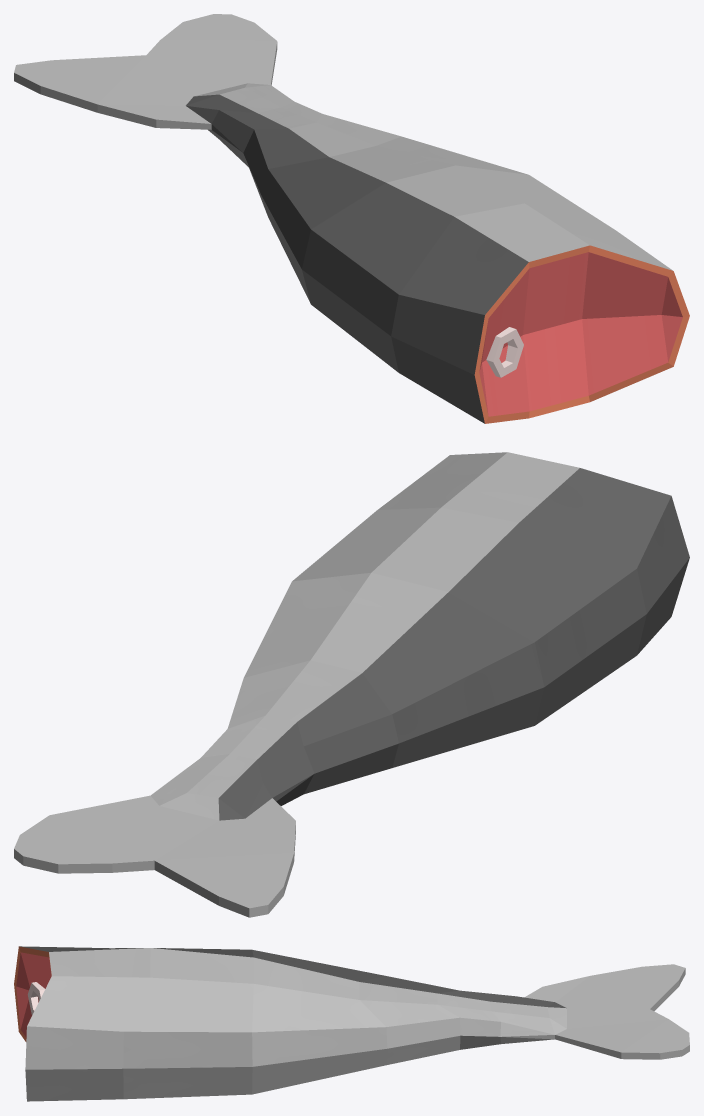
Rendered from fish_001.obj.
3 views of the same model, one above another, from view 1: azimuth 30°, elevation 25°; view 2: azimuth 150°, elevation 25°; view 3: azimuth 270°, elevation 25° (orthographic). The views are drawn at different scales.
Parts seen in each view (by area): view 1: fish_001; view 2: fish_001; view 3: fish_001.
Part boxes in pixels (x1,y1,x2,y2): fish_001: [14, 14, 689, 423]; fish_001: [14, 452, 689, 917]; fish_001: [14, 946, 689, 1101].
Size of the model in its own units: 0.0974 by 0.0555 by 0.2751.
